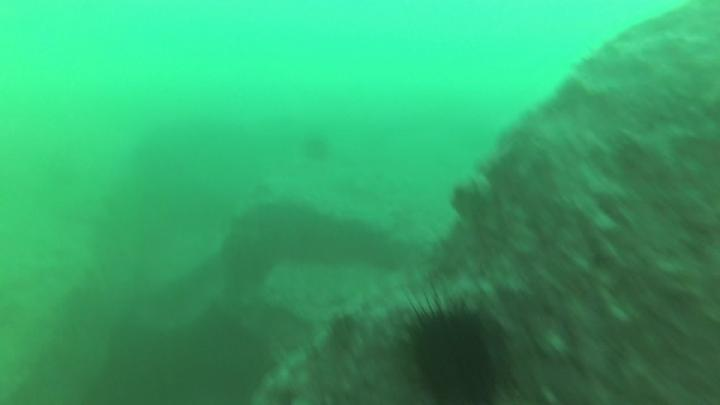echinus: (409, 309, 496, 399), (449, 189, 483, 217)
